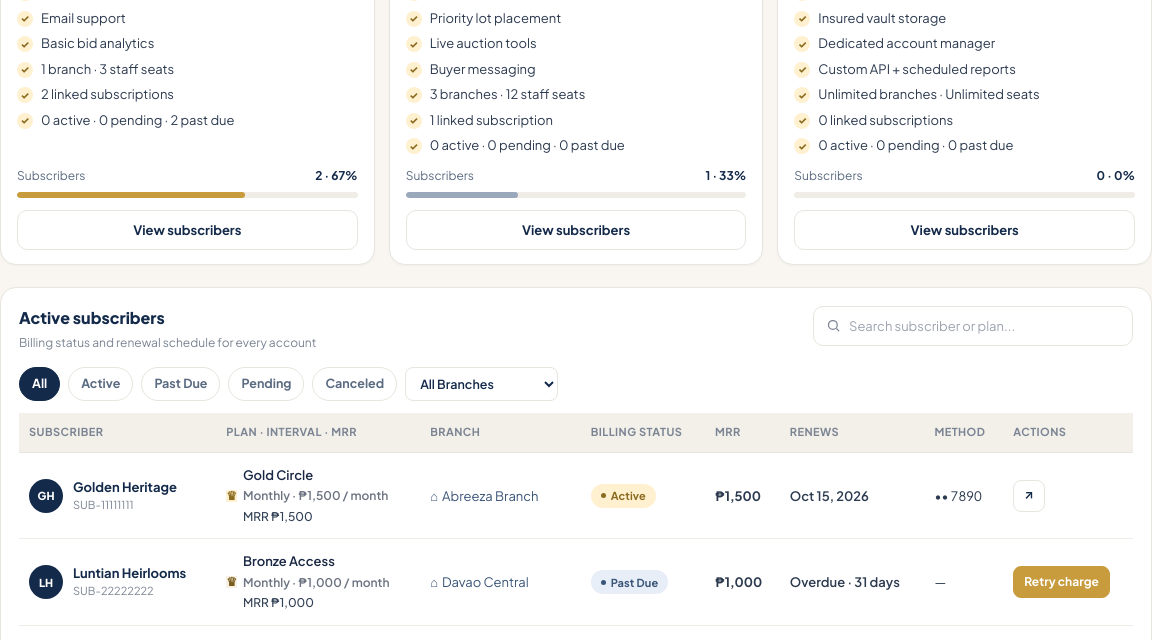
Test: Admin Subscriptions redesign › searches subscriber or plan
(page scrolled)
Check: the text "Golden Heritage" is shown, box x1=73 y1=479 x2=177 y2=495
Type "Luntian" into the search field labelled "Search subscriber or plan..." at (984, 326), box x1=849 y1=316 x2=1120 y2=336
(page scrolled)
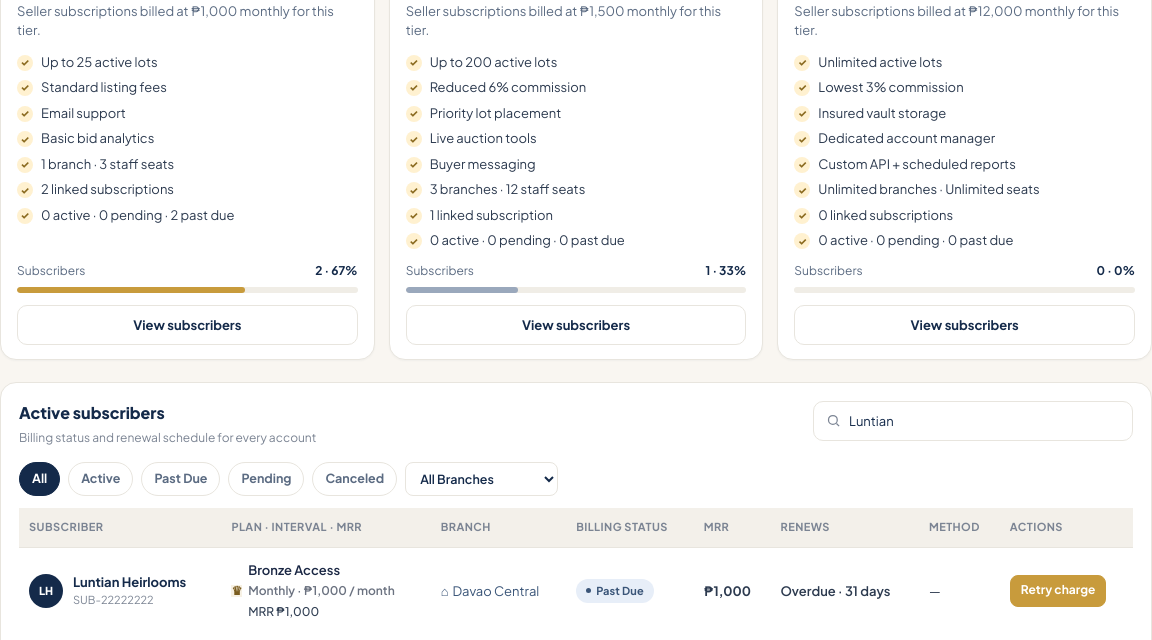
Check: the text "Luntian Heirlooms" is shown, box x1=73 y1=574 x2=186 y2=590
Check: the text "Golden Heritage" is gone
